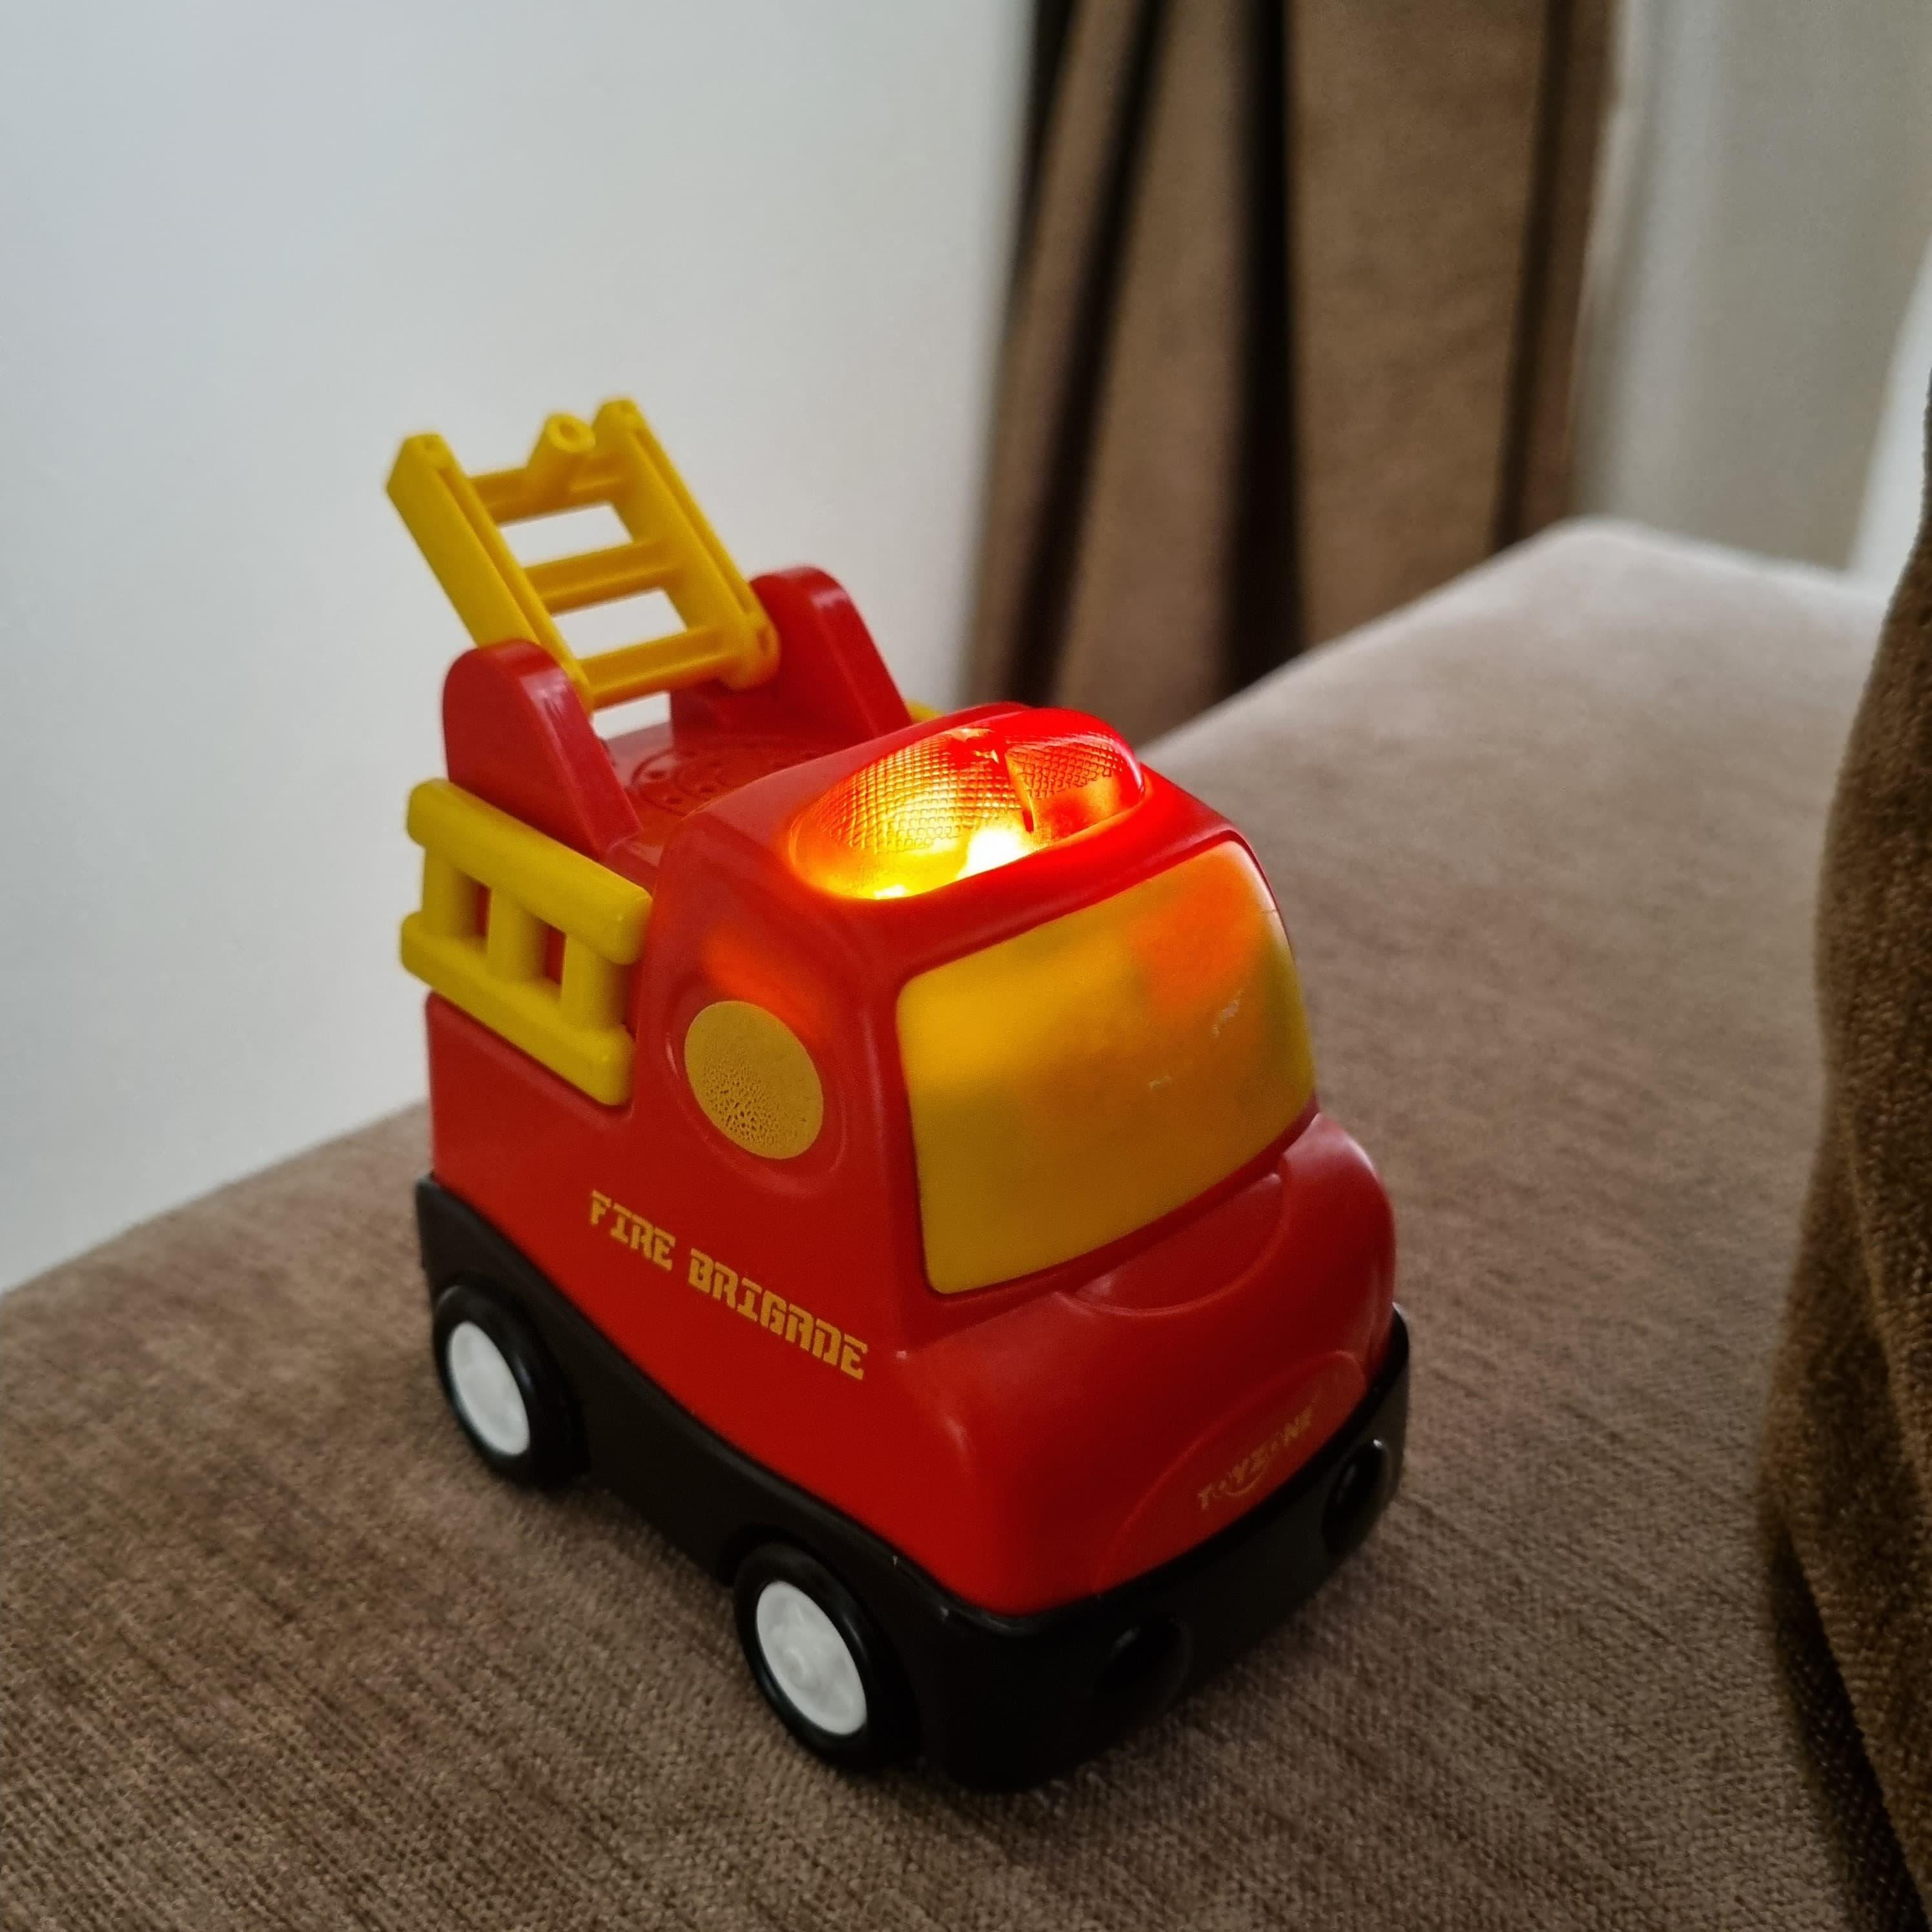firetruck_on: (391, 398, 1412, 1805)
